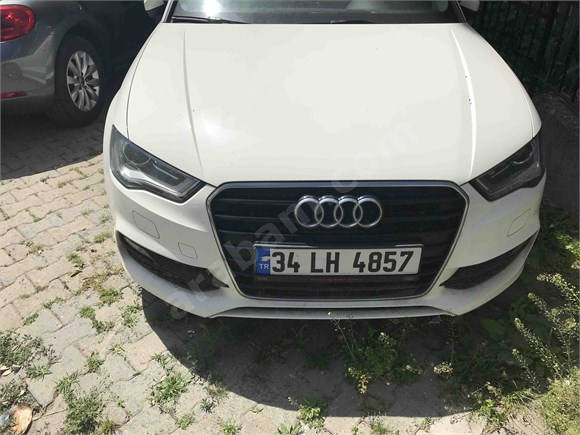audi: (284, 191, 387, 236)
